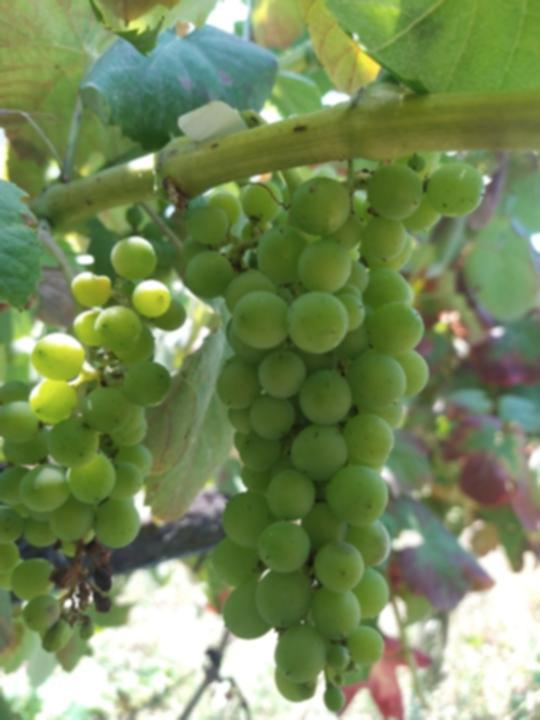grape: (179, 152, 486, 716), (3, 231, 191, 658)
